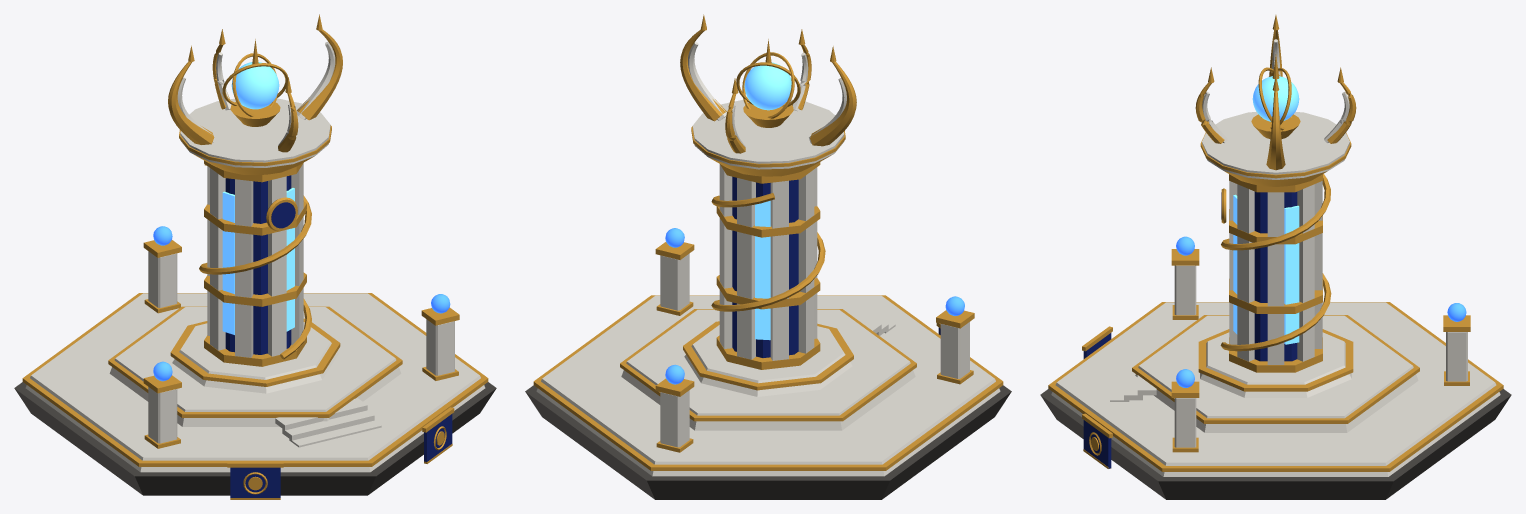
File: zeus_storm_relay_pylon.glb
3 views of the same model, side by side, from view 1: azimuth 30°, elevation 25°; view 2: azimuth 150°, elevation 25°; view 3: azimuth 270°, elevation 25° (orthographic). The views are drawn at different scales.
Visible parts, largest first — view 1: zeus_storm_relay_pylon; view 2: zeus_storm_relay_pylon; view 3: zeus_storm_relay_pylon.
Boxes of the visible parts, bbox=[...] form: zeus_storm_relay_pylon: bbox=[14, 14, 496, 499]; zeus_storm_relay_pylon: bbox=[525, 14, 1011, 499]; zeus_storm_relay_pylon: bbox=[1040, 15, 1511, 499].
Size of the model in its own units: 1.49 by 1.51 by 1.72.
1 material, 1 textured.
